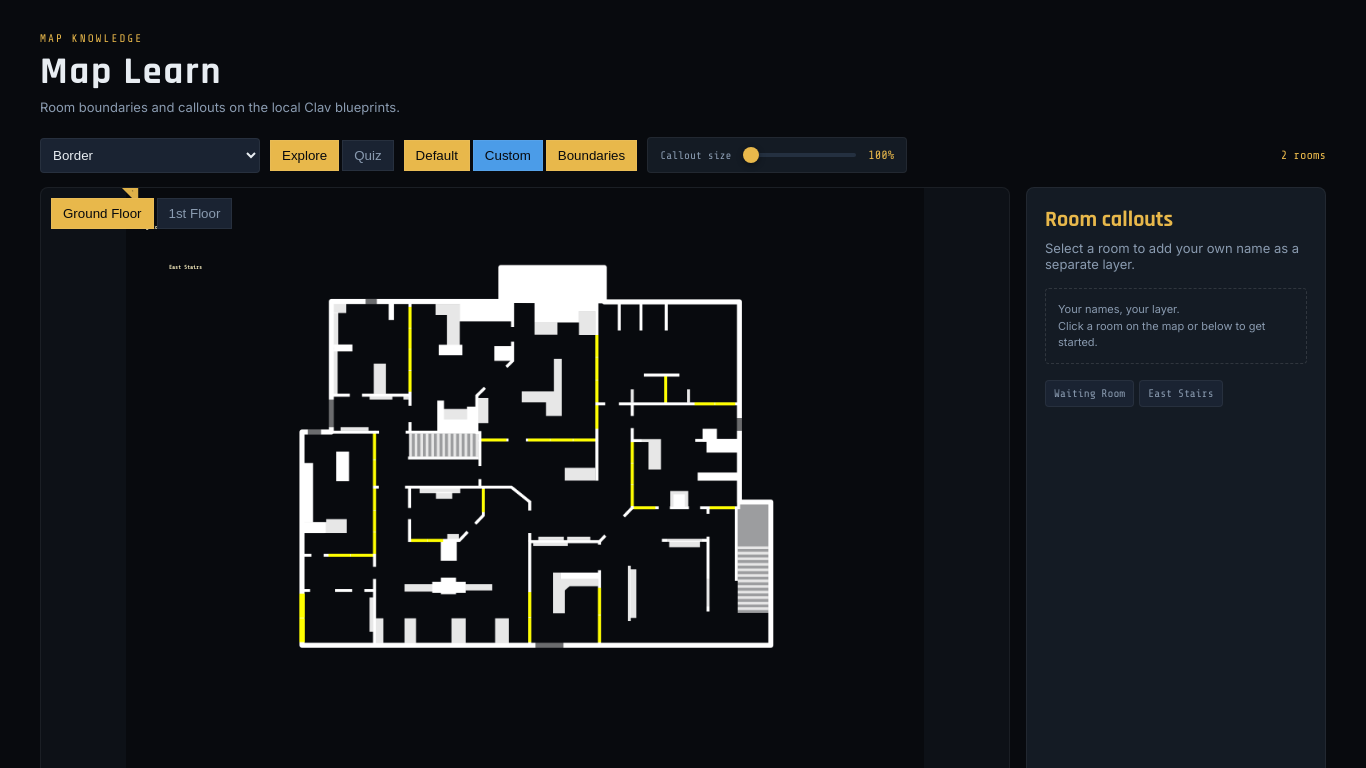
Test case: Map Learn personal callout layer › failed storage does not falsely save a name or lose the pending input
The width and height of the screenshot is (1366, 768).
Click the button "Waiting Room" at (1090, 393), box [1045,380,1134,406]
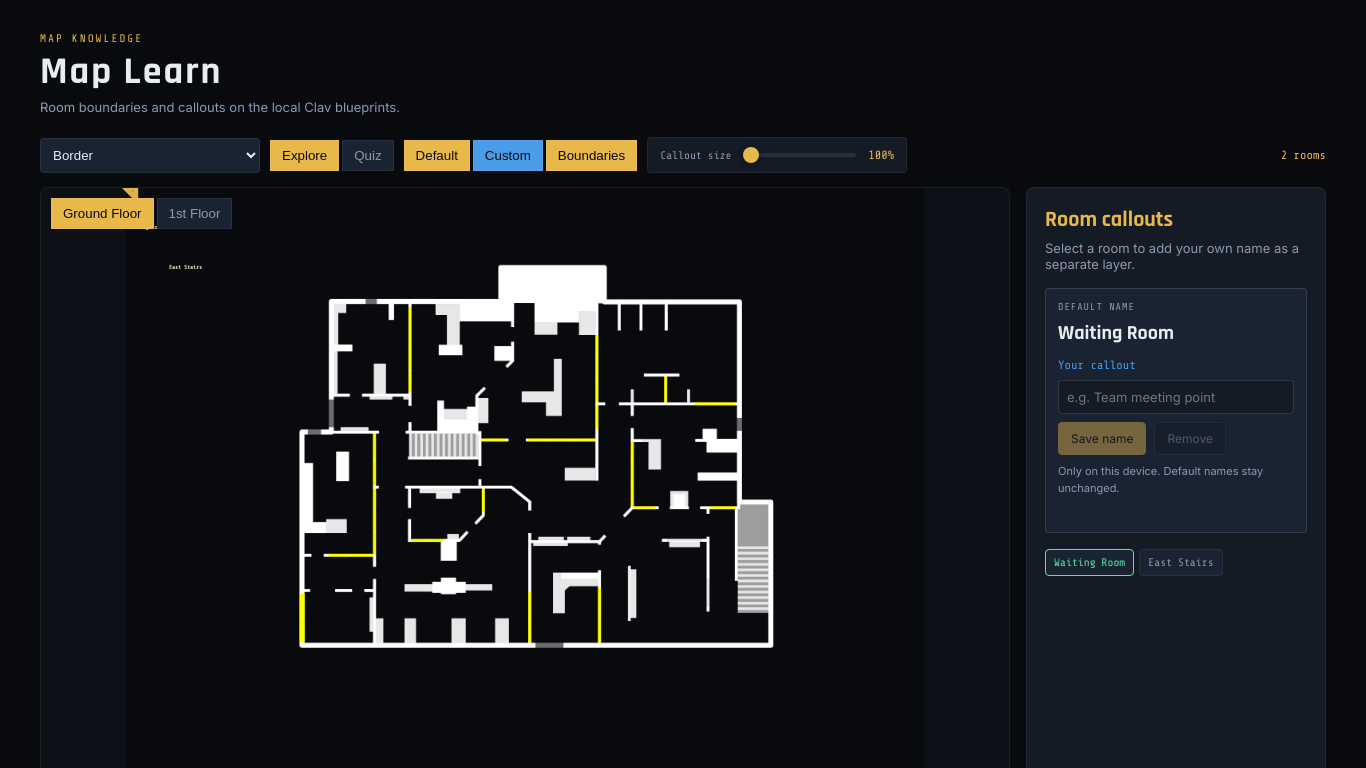
Type "Unsaved name" into the field with id "custom-room-name" at (1176, 397), box [1058,380,1294,414]
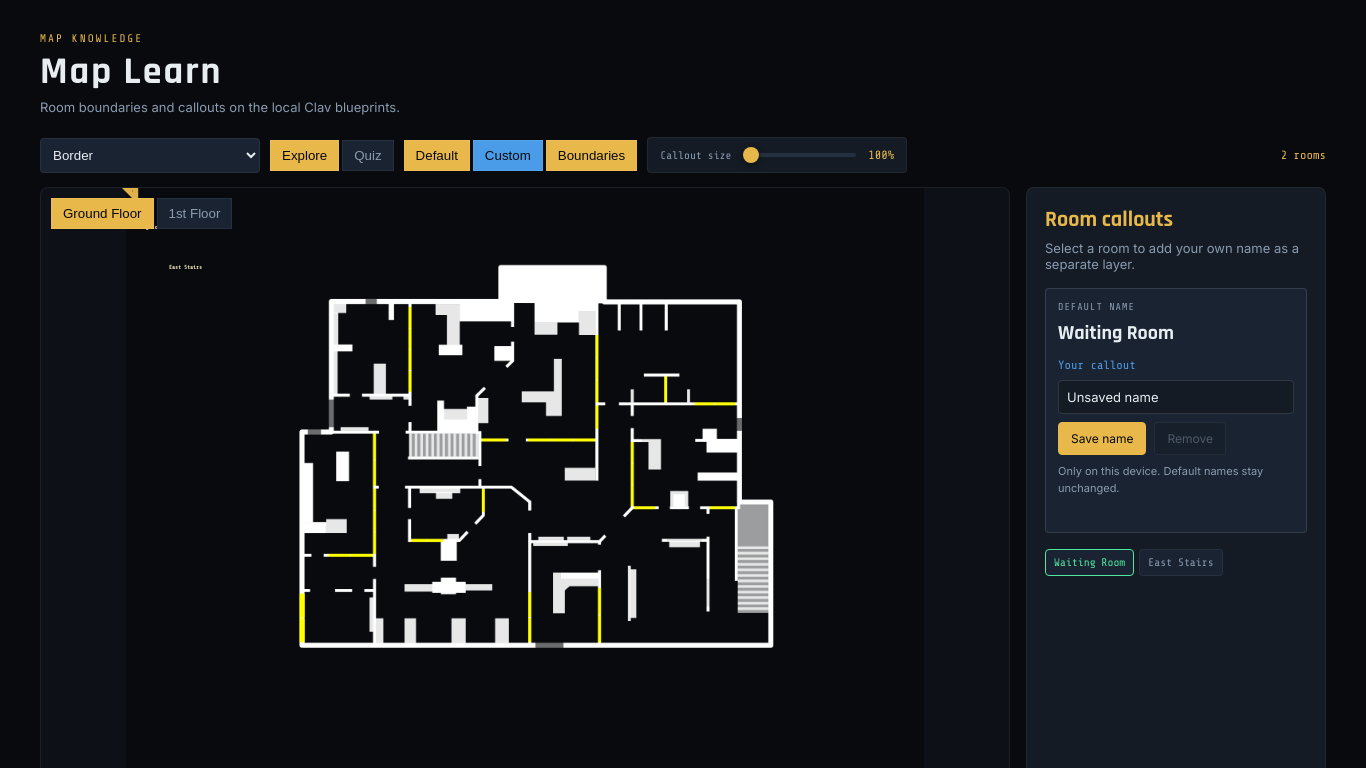
Submit the form, box [1045,288,1307,533]
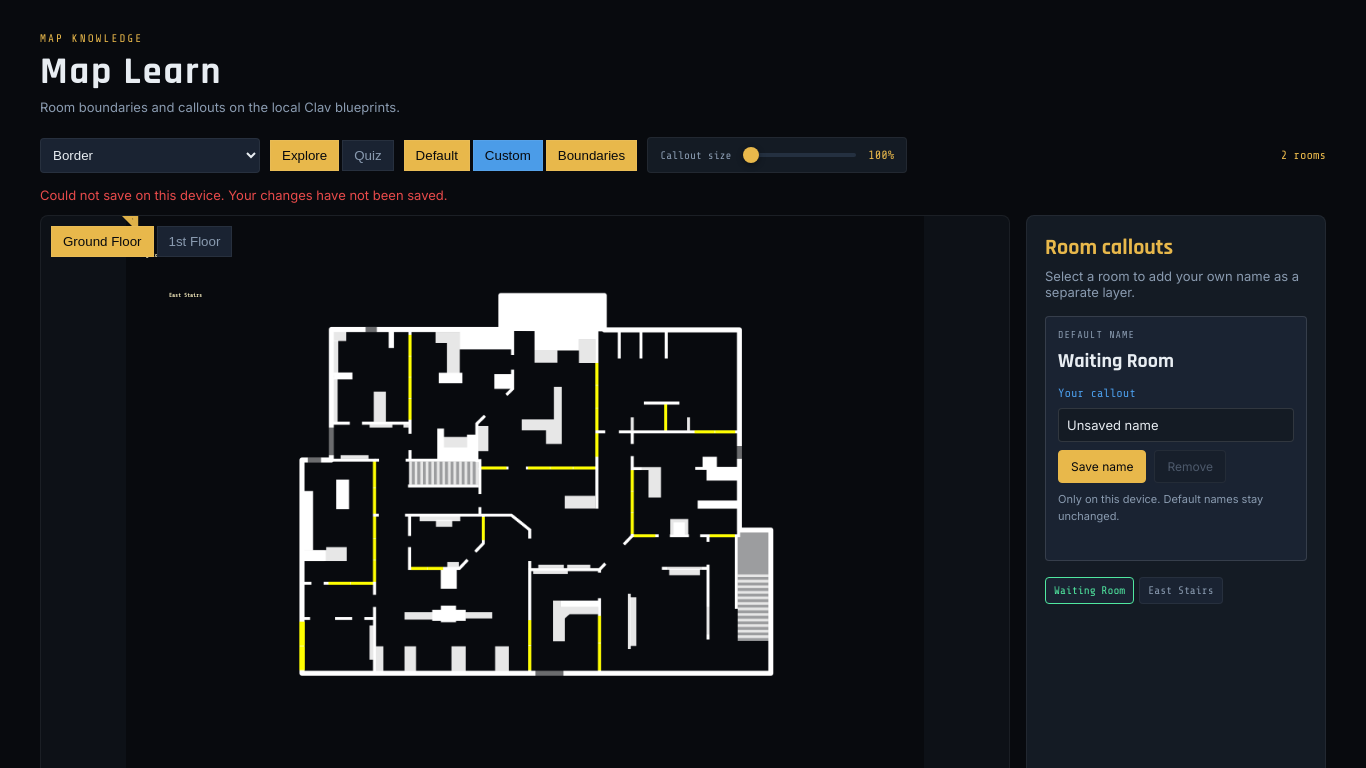
Check: the message "Could not save on this device. Your changes have not been saved." is shown, box [40,187,448,203]
